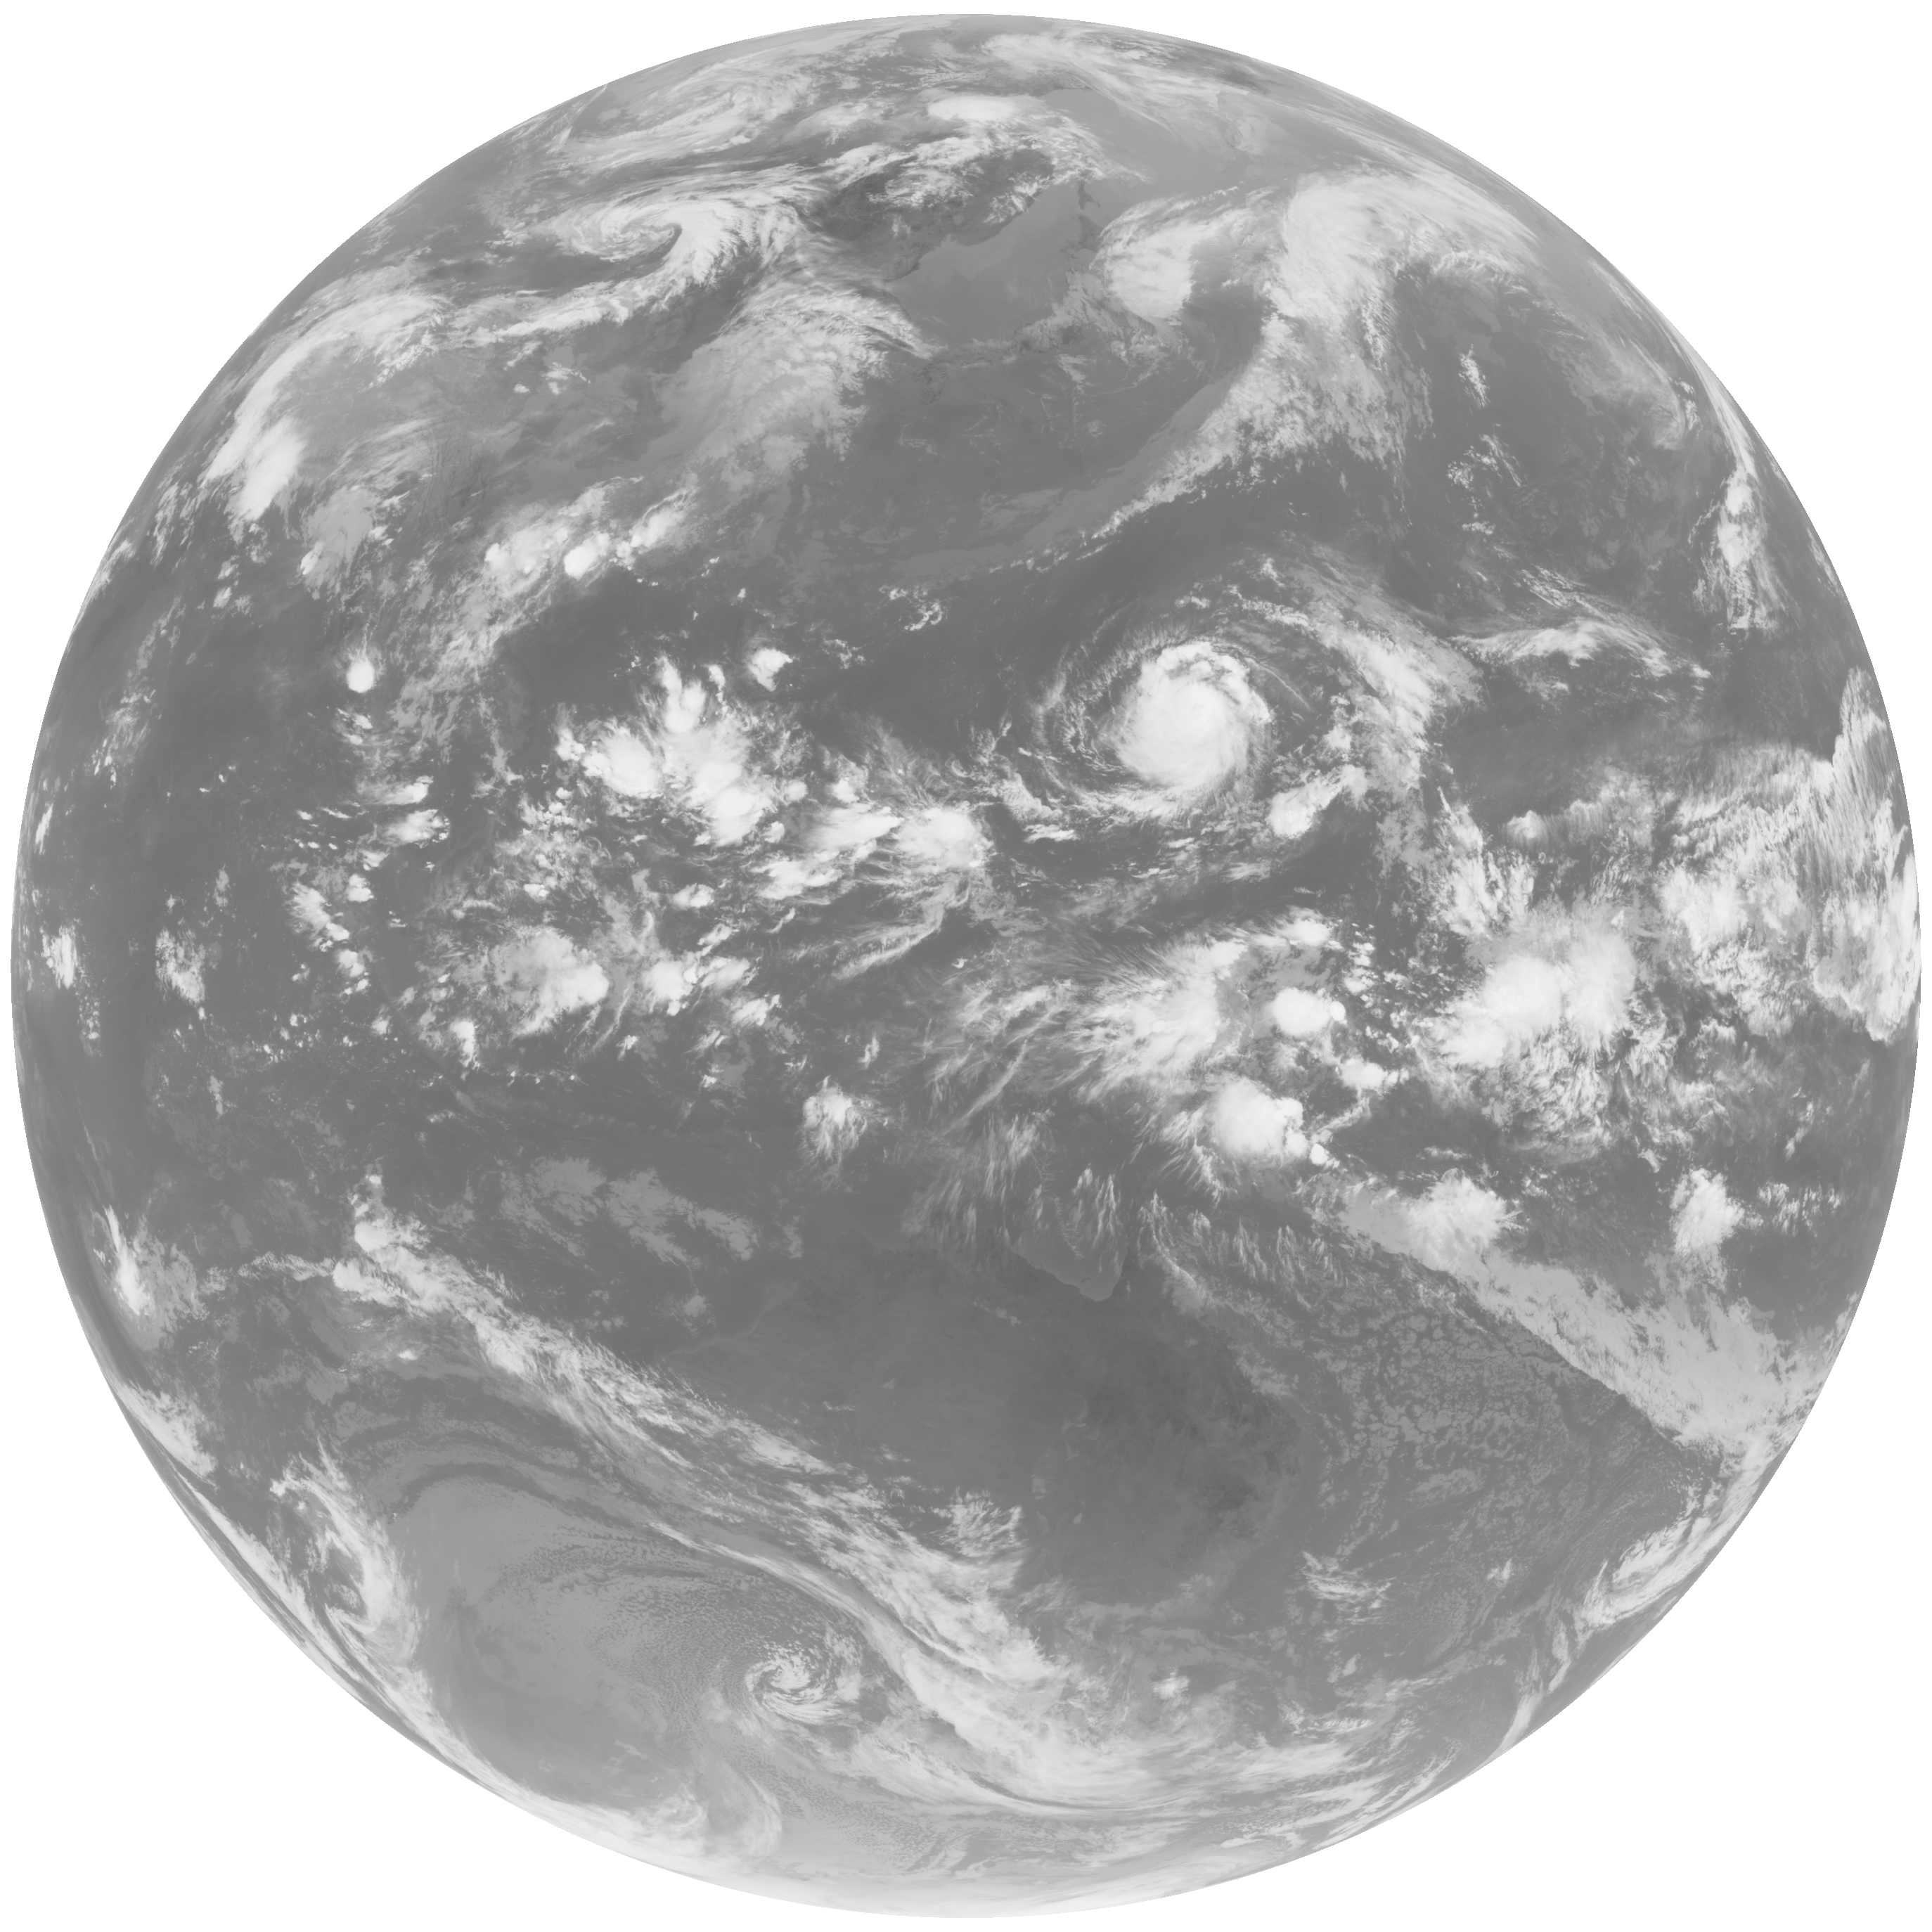typhoon: (964, 571, 1405, 904)
